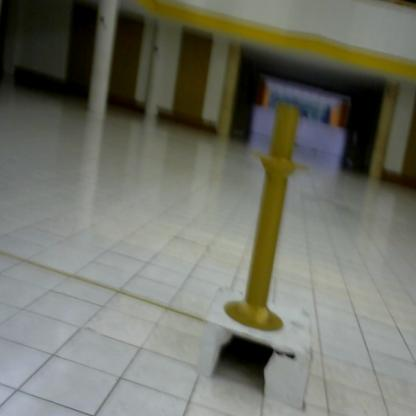pole: (222, 100, 318, 348)
